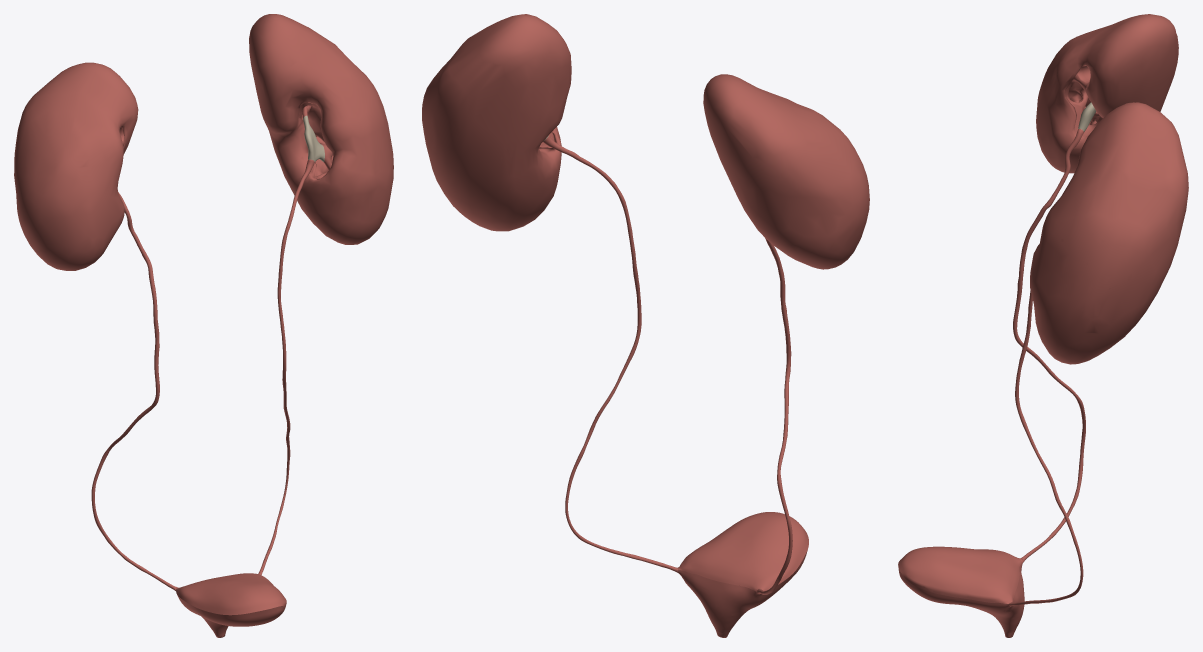
Rendered from adult_female.urinary.LOD1.glb.
The picture shows the model from 3 angles, left to right: view 1: azimuth 30°, elevation 25°; view 2: azimuth 150°, elevation 25°; view 3: azimuth 270°, elevation 25°; orthographic projection. The views are drawn at different scales.
Visible parts, largest first — view 1: ADULT.FEMALE.URINARY.KIDNEY_CAPSULE.L, ADULT.FEMALE.URINARY.KIDNEY_CAPSULE.R, ADULT.FEMALE.URINARY.FUNDUS_OF_URINARY_BLADDER_DOME, ADULT.FEMALE.URINARY.URETER.R, ADULT.FEMALE.URINARY.URETER.L, ADULT.FEMALE.URINARY.FUNDUS_OF_URINARY_BLADDER_BASE, ADULT.FEMALE.URINARY.HILUM_OF_KIDNEY.L, ADULT.FEMALE.URINARY.RENAL_PELVIS.L; view 2: ADULT.FEMALE.URINARY.KIDNEY_CAPSULE.L, ADULT.FEMALE.URINARY.KIDNEY_CAPSULE.R, ADULT.FEMALE.URINARY.FUNDUS_OF_URINARY_BLADDER_DOME, ADULT.FEMALE.URINARY.FUNDUS_OF_URINARY_BLADDER_BASE, ADULT.FEMALE.URINARY.URETER.L, ADULT.FEMALE.URINARY.URETER.R; view 3: ADULT.FEMALE.URINARY.KIDNEY_CAPSULE.L, ADULT.FEMALE.URINARY.KIDNEY_CAPSULE.R, ADULT.FEMALE.URINARY.FUNDUS_OF_URINARY_BLADDER_DOME, ADULT.FEMALE.URINARY.URETER.R, ADULT.FEMALE.URINARY.FUNDUS_OF_URINARY_BLADDER_BASE, ADULT.FEMALE.URINARY.URETER.L, ADULT.FEMALE.URINARY.HILUM_OF_KIDNEY.R.
Part boxes in pixels (bbox=[...]): ADULT.FEMALE.URINARY.KIDNEY_CAPSULE.L: bbox=[249, 14, 393, 244]; ADULT.FEMALE.URINARY.KIDNEY_CAPSULE.R: bbox=[14, 62, 138, 270]; ADULT.FEMALE.URINARY.FUNDUS_OF_URINARY_BLADDER_DOME: bbox=[175, 573, 286, 615]; ADULT.FEMALE.URINARY.URETER.R: bbox=[91, 192, 177, 590]; ADULT.FEMALE.URINARY.URETER.L: bbox=[258, 159, 314, 575]; ADULT.FEMALE.URINARY.FUNDUS_OF_URINARY_BLADDER_BASE: bbox=[177, 594, 285, 633]; ADULT.FEMALE.URINARY.HILUM_OF_KIDNEY.L: bbox=[299, 102, 333, 178]; ADULT.FEMALE.URINARY.RENAL_PELVIS.L: bbox=[303, 115, 324, 162]; ADULT.FEMALE.URINARY.KIDNEY_CAPSULE.L: bbox=[422, 14, 571, 231]; ADULT.FEMALE.URINARY.KIDNEY_CAPSULE.R: bbox=[703, 74, 869, 269]; ADULT.FEMALE.URINARY.FUNDUS_OF_URINARY_BLADDER_DOME: bbox=[677, 512, 808, 591]; ADULT.FEMALE.URINARY.FUNDUS_OF_URINARY_BLADDER_BASE: bbox=[677, 550, 807, 633]; ADULT.FEMALE.URINARY.URETER.L: bbox=[543, 135, 678, 572]; ADULT.FEMALE.URINARY.URETER.R: bbox=[757, 238, 792, 594]; ADULT.FEMALE.URINARY.KIDNEY_CAPSULE.L: bbox=[1030, 102, 1188, 364]; ADULT.FEMALE.URINARY.KIDNEY_CAPSULE.R: bbox=[1036, 14, 1178, 173]; ADULT.FEMALE.URINARY.FUNDUS_OF_URINARY_BLADDER_DOME: bbox=[898, 546, 1023, 603]; ADULT.FEMALE.URINARY.URETER.R: bbox=[1013, 129, 1085, 562]; ADULT.FEMALE.URINARY.FUNDUS_OF_URINARY_BLADDER_BASE: bbox=[898, 562, 1024, 632]; ADULT.FEMALE.URINARY.URETER.L: bbox=[1009, 290, 1083, 606]; ADULT.FEMALE.URINARY.HILUM_OF_KIDNEY.R: bbox=[1065, 65, 1101, 136].
Size of the model in its own units: 0.2219 by 0.3186 by 0.1418.
